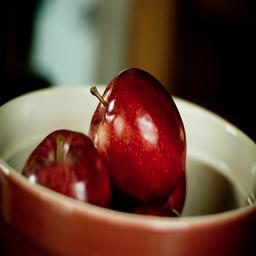apple: (87, 67, 188, 213), (23, 129, 109, 204)
